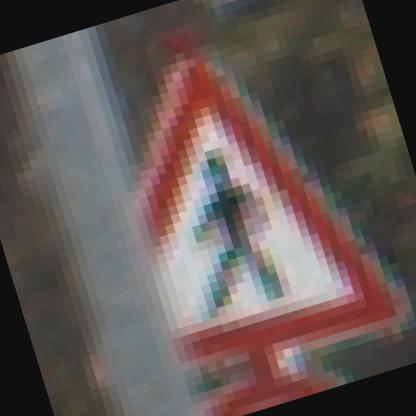crosswalk: (49, 44, 415, 415)
